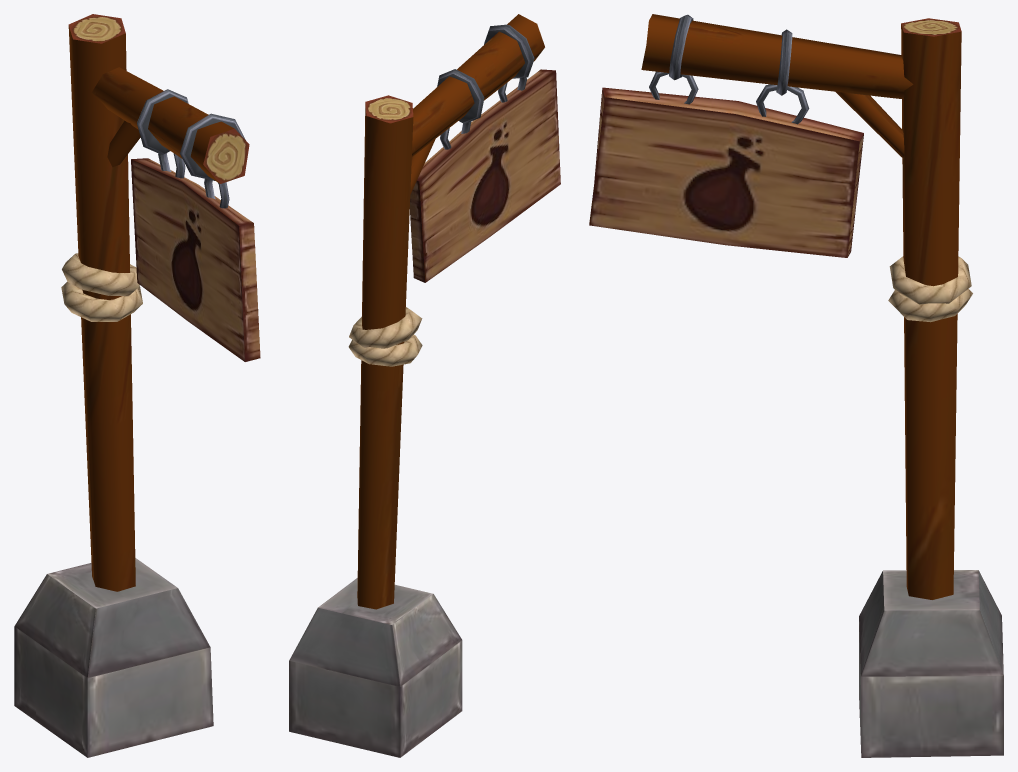
Rendered from SM_PROP_sign_02.glb.
3 views of the same model, side by side, from view 1: azimuth 30°, elevation 25°; view 2: azimuth 150°, elevation 25°; view 3: azimuth 270°, elevation 25° (orthographic). The views are drawn at different scales.
Visible parts, largest first — view 1: SM_PROP_sign_02_EXPORT; view 2: SM_PROP_sign_02_EXPORT; view 3: SM_PROP_sign_02_EXPORT.
Part boxes in pixels (x1=…): SM_PROP_sign_02_EXPORT: x1=14, y1=14, x2=260, y2=757; SM_PROP_sign_02_EXPORT: x1=289, y1=14, x2=560, y2=757; SM_PROP_sign_02_EXPORT: x1=589, y1=14, x2=1003, y2=757.
Bounding box in the file's own units: 0.6551 × 3.4 × 1.83.
Materials: 6 (6 with a texture image).
